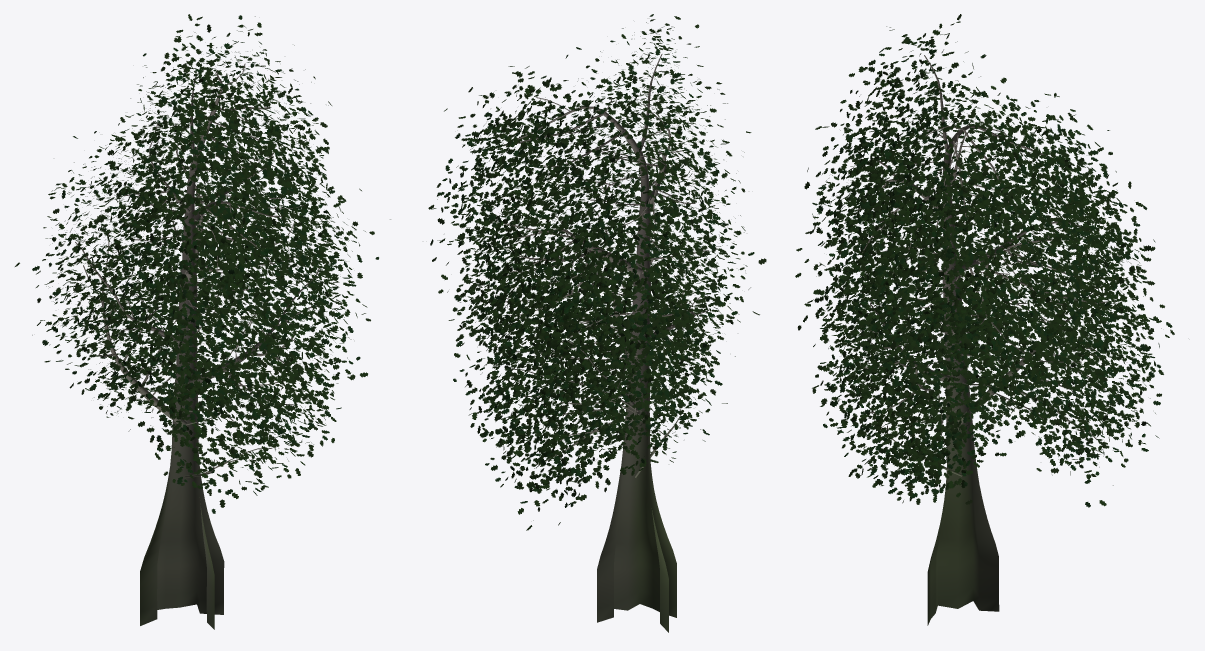
Rendered from SM_Tree_holly_2.glb.
3 renders of one model, left to right at view 1: azimuth 30°, elevation 25°; view 2: azimuth 150°, elevation 25°; view 3: azimuth 270°, elevation 25°, orthographic.
Visible parts, largest first — view 1: SM_Tree_holly_2; view 2: SM_Tree_holly_2; view 3: SM_Tree_holly_2.
Part boxes in pixels (left/top/right/bottom): SM_Tree_holly_2: left=15, top=14, right=390, bottom=629; SM_Tree_holly_2: left=428, top=14, right=766, bottom=632; SM_Tree_holly_2: left=795, top=14, right=1174, bottom=625.
Bounding box in the file's own units: 4.21 × 8.03 × 4.74.
